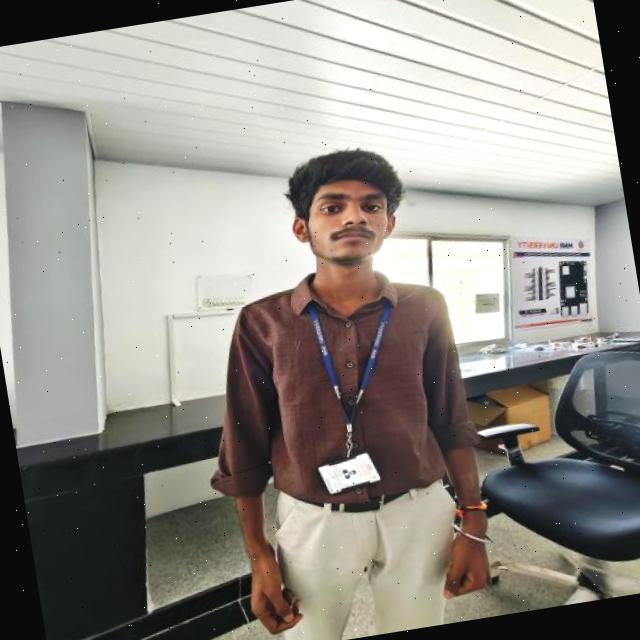Card: (318, 453, 380, 494)
Id strap: (308, 299, 390, 438)
